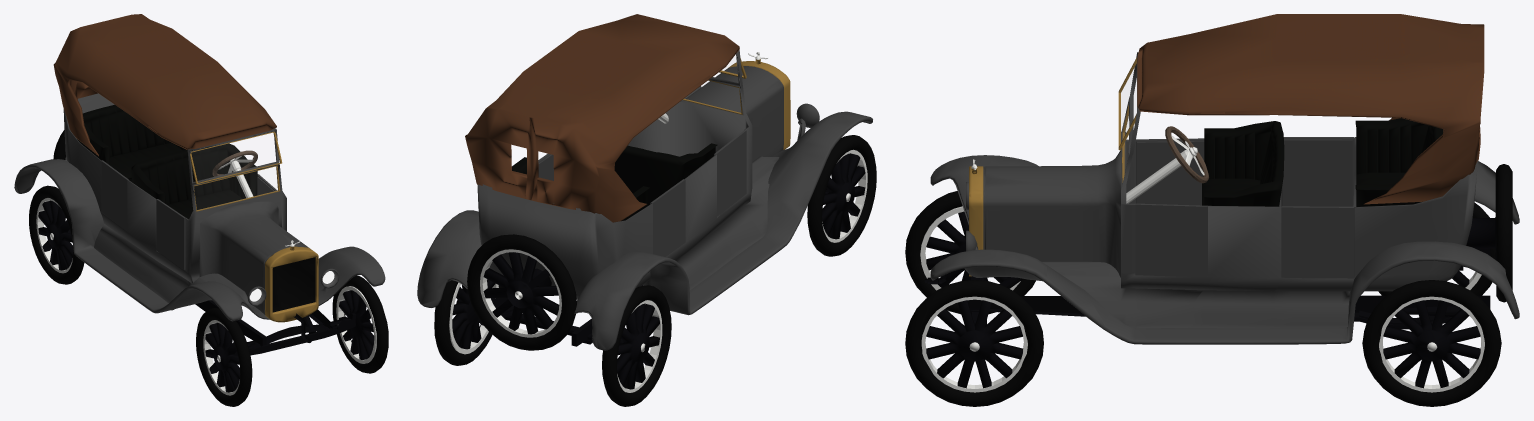
Rendered from modelo-auto.glb.
The picture shows the model from 3 angles, left to right: view 1: azimuth 30°, elevation 25°; view 2: azimuth 150°, elevation 25°; view 3: azimuth 270°, elevation 25°; orthographic projection. The views are drawn at different scales.
Parts seen in each view (by area): view 1: body_body_0; view 2: body_body_0; view 3: body_body_0.
Part boxes in pixels (<box>): body_body_0: <box>14,14,388,406</box>; body_body_0: <box>417,14,876,406</box>; body_body_0: <box>905,14,1519,406</box>.
Bounding box in the file's own units: 335 × 463 × 799.
Materials: 3 (3 with a texture image).
